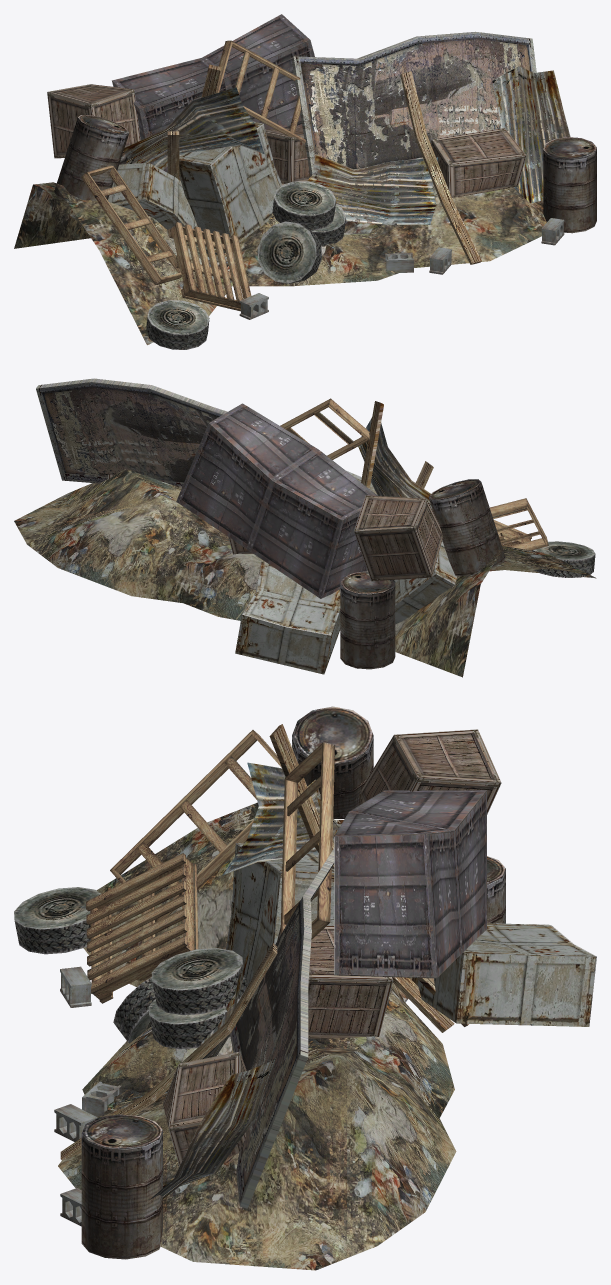
The model's file is Rdblk2.glb.
3 renders of one model, top to bottom at view 1: azimuth 30°, elevation 25°; view 2: azimuth 150°, elevation 25°; view 3: azimuth 270°, elevation 25°, orthographic. The views are drawn at different scales.
Parts seen in each view (by area): view 1: _Rdblk2; view 2: _Rdblk2; view 3: _Rdblk2.
Boxes of the visible parts, x1=… form: _Rdblk2: x1=14, y1=14, x2=596, y2=349; _Rdblk2: x1=14, y1=378, x2=596, y2=677; _Rdblk2: x1=14, y1=706, x2=596, y2=1270.
Size of the model in its own units: 10.38 by 4.22 by 7.16.
2 materials, 2 textured.
